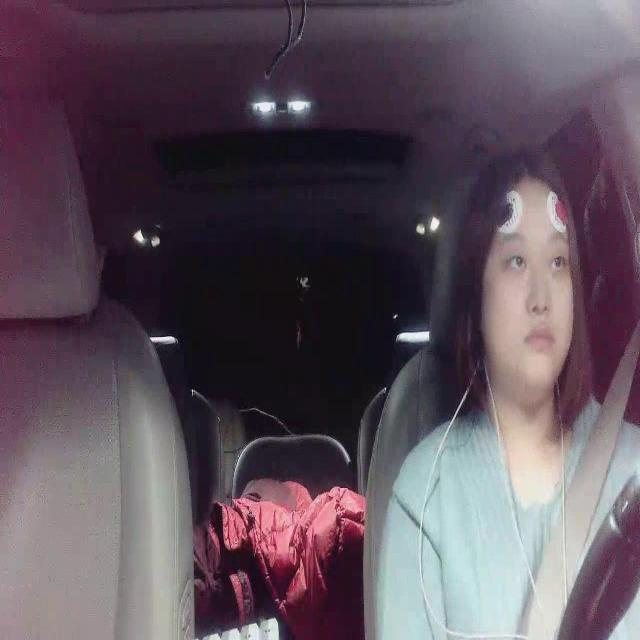Attentive: (468, 146, 592, 391)
